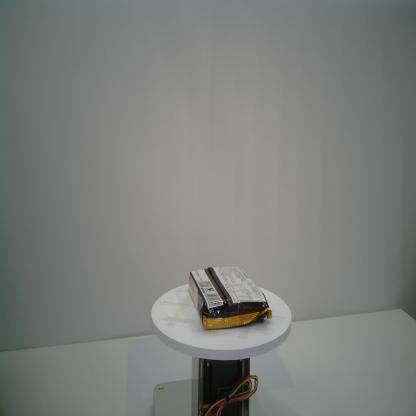Dessert: (188, 263, 272, 332)
